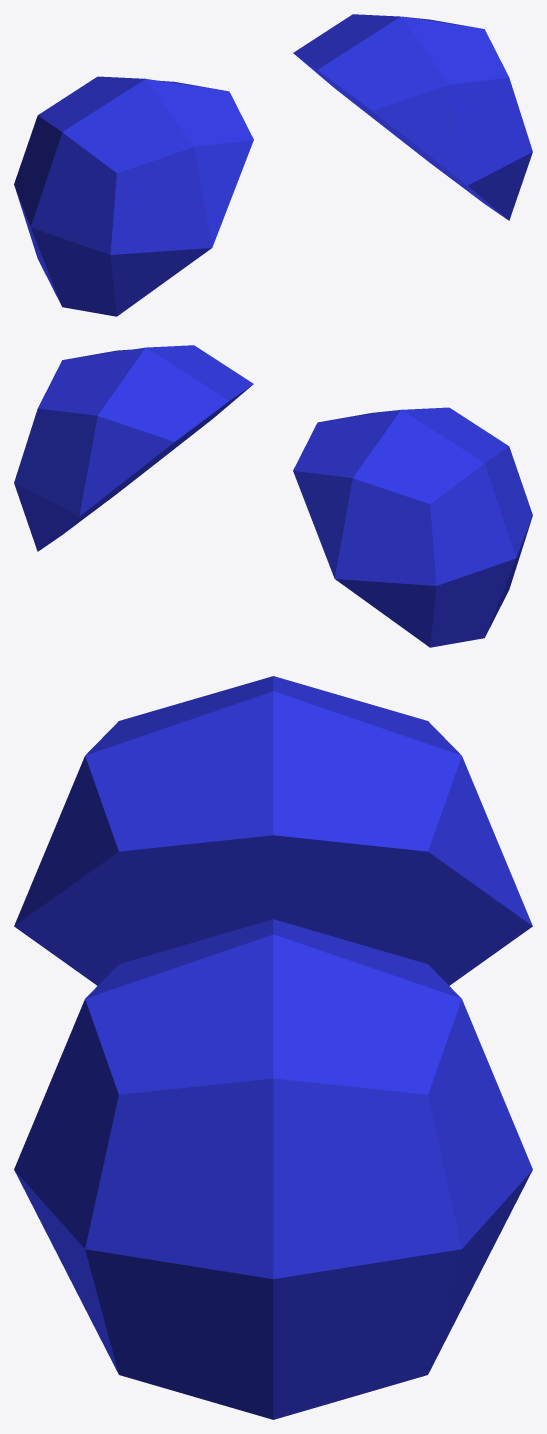
The model's file is shoulder_test.glb.
3 views of the same model, one above another, from view 1: azimuth 30°, elevation 25°; view 2: azimuth 150°, elevation 25°; view 3: azimuth 270°, elevation 25° (orthographic). The views are drawn at different scales.
Parts seen in each view (by area): view 1: right_shoulder, left_shoulder; view 2: right_shoulder, left_shoulder; view 3: left_shoulder, right_shoulder.
Boxes of the visible parts, bbox=[...] form: right_shoulder: bbox=[14, 76, 253, 316]; left_shoulder: bbox=[293, 14, 532, 220]; right_shoulder: bbox=[293, 407, 532, 647]; left_shoulder: bbox=[14, 345, 253, 551]; left_shoulder: bbox=[14, 919, 532, 1419]; right_shoulder: bbox=[14, 676, 532, 985].
Bounding box in the file's own units: 3.54 × 1.45 × 1.68.
